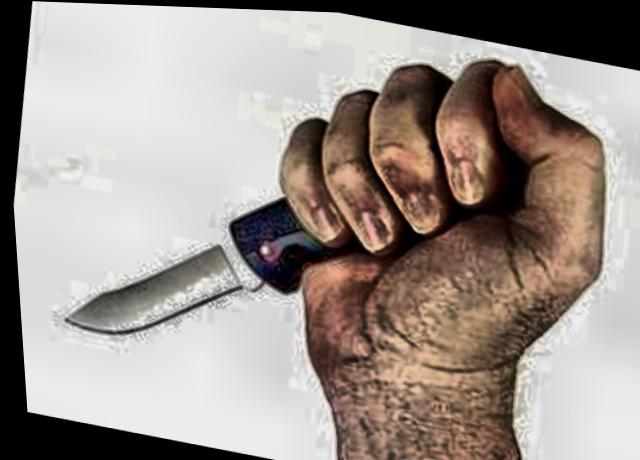knife: (27, 59, 456, 406)
